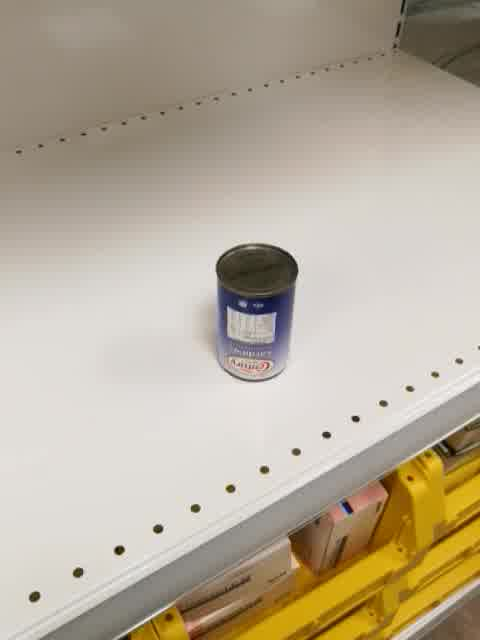sardine: (214, 242, 299, 383)
